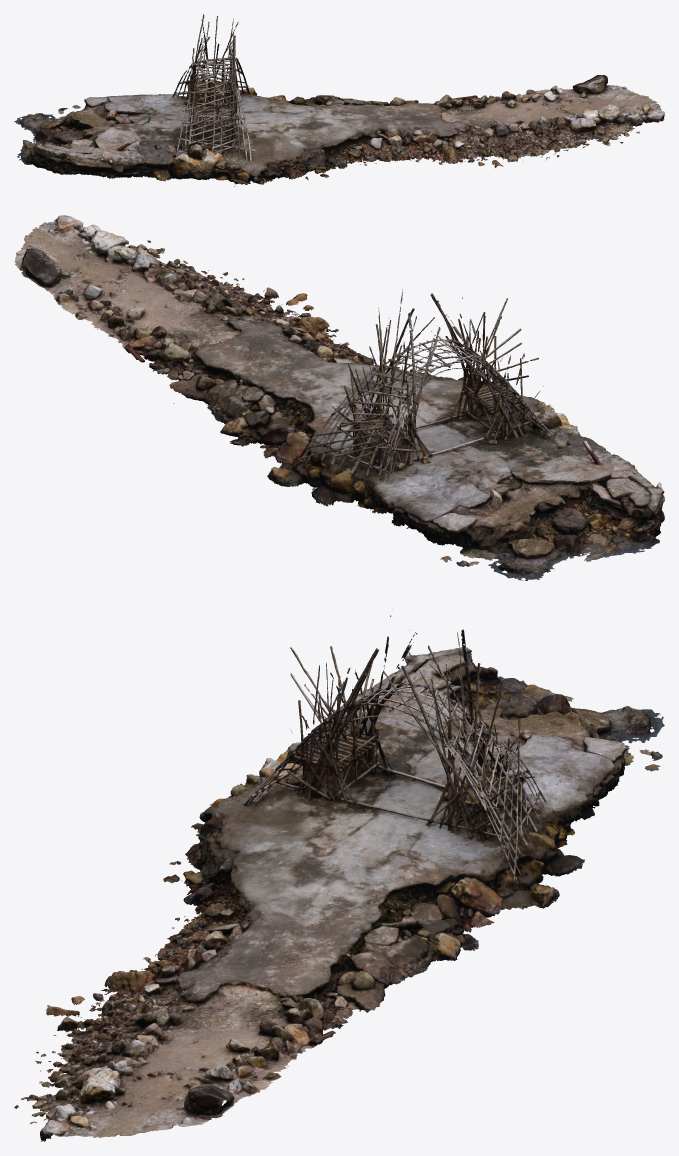
File: 400kArtworkonly_mobile.glb
3 views of the same model, one above another, from view 1: azimuth 30°, elevation 25°; view 2: azimuth 150°, elevation 25°; view 3: azimuth 270°, elevation 25° (orthographic). The views are drawn at different scales.
Bounding box in the file's own units: 25.31 × 5.53 × 14.57.
Materials: 1 (1 with a texture image).
